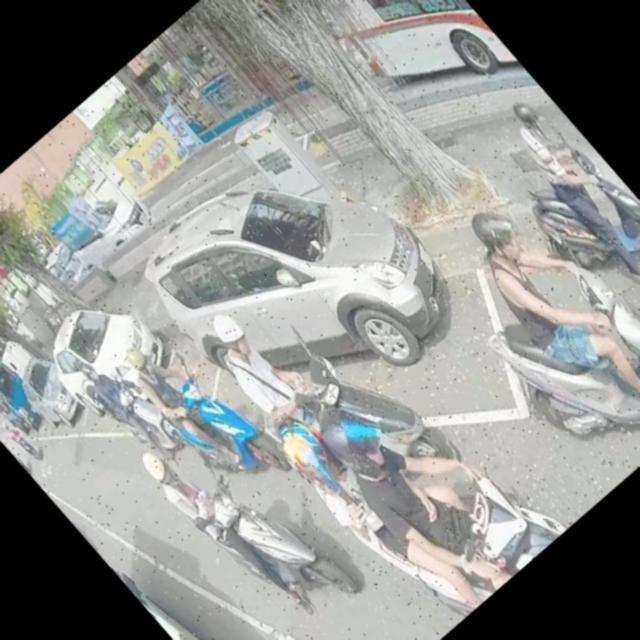person: (302, 350, 556, 618), (270, 370, 520, 636), (441, 177, 640, 446), (132, 422, 326, 636), (492, 90, 640, 293), (192, 296, 342, 457), (110, 320, 256, 480), (72, 354, 186, 478), (2, 421, 24, 444), (0, 434, 15, 454)
